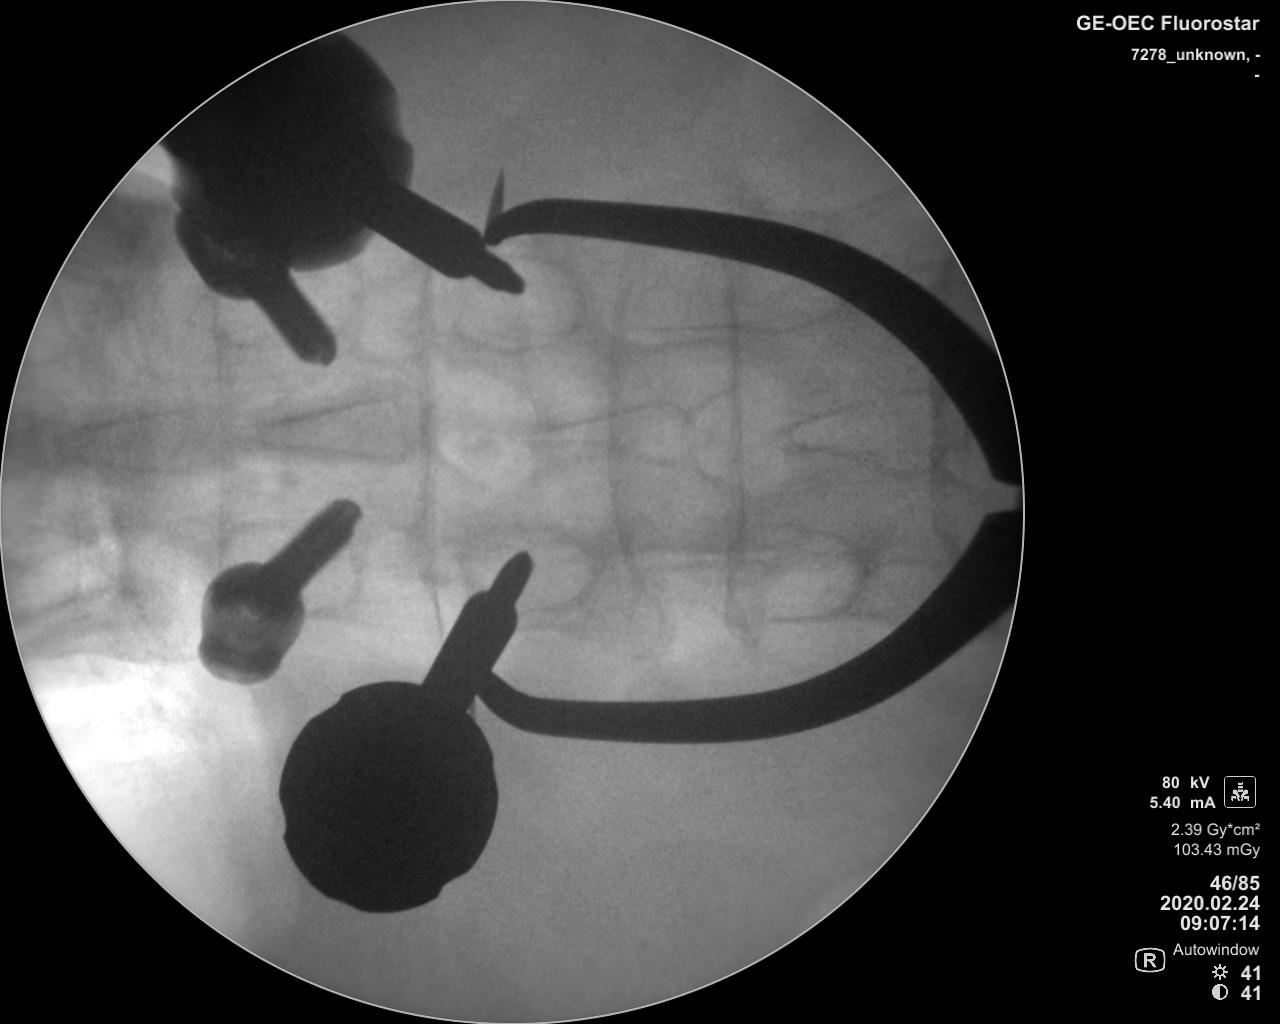eyes: (737, 525, 867, 628), (450, 253, 583, 352), (459, 520, 594, 616), (223, 521, 360, 611)
line: (609, 249, 650, 614), (409, 261, 445, 629), (721, 265, 753, 620), (204, 296, 235, 567)
nose: (760, 386, 969, 478), (509, 394, 695, 472), (248, 385, 421, 463), (30, 401, 200, 476)
